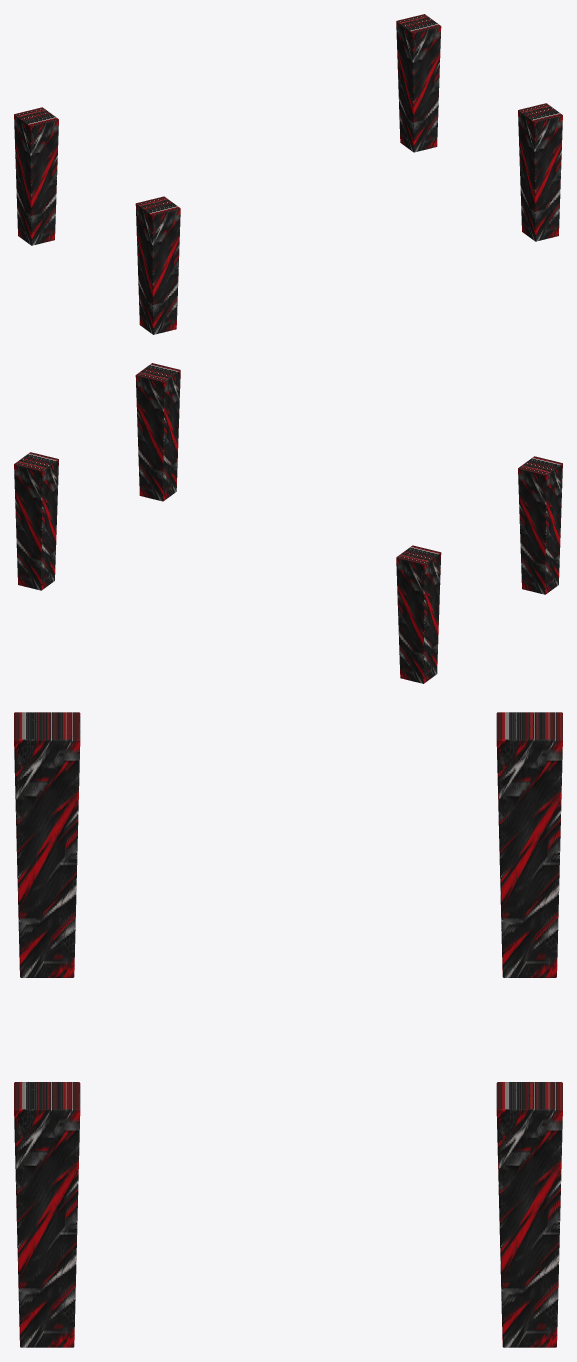
Rendered from strike-new-legs.glb.
3 renders of one model, top to bottom at view 1: azimuth 30°, elevation 25°; view 2: azimuth 150°, elevation 25°; view 3: azimuth 270°, elevation 25°, orthographic. The views are drawn at different scales.
Parts seen in each view (by area): view 1: table_leg.005, table_leg.006, table_leg.007, table_leg.004; view 2: table_leg.004, table_leg.007, table_leg.006, table_leg.005; view 3: table_leg.004, table_leg.005, table_leg.006, table_leg.007.
Boxes of the visible parts, x1,y1,x2,y2 form: table_leg.005: (135, 196, 180, 334); table_leg.006: (396, 14, 441, 152); table_leg.007: (518, 103, 562, 241); table_leg.004: (14, 107, 58, 245); table_leg.004: (396, 545, 441, 683); table_leg.007: (135, 363, 180, 501); table_leg.006: (14, 452, 58, 590); table_leg.005: (518, 456, 562, 594); table_leg.004: (496, 712, 562, 977); table_leg.005: (14, 712, 80, 977); table_leg.006: (496, 1082, 562, 1347); table_leg.007: (14, 1082, 80, 1347).
Bounding box in the file's own units: 125 × 35.24 × 72.8.
1 material, 1 textured.
